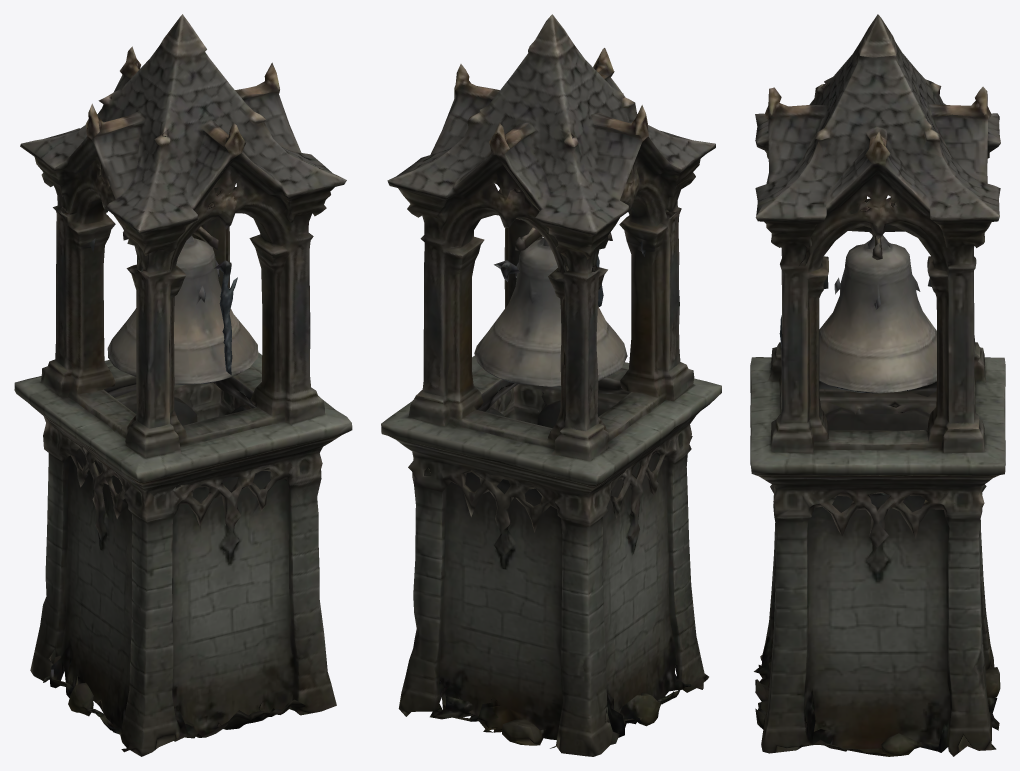
The model's file is bell_tower.glb.
The picture shows the model from 3 angles, left to right: view 1: azimuth 30°, elevation 25°; view 2: azimuth 150°, elevation 25°; view 3: azimuth 270°, elevation 25°; orthographic projection. The views are drawn at different scales.
Parts seen in each view (by area): view 1: geometry_0; view 2: geometry_0; view 3: geometry_0.
Boxes of the visible parts, x1=… form: geometry_0: x1=14, y1=14, x2=352, y2=756; geometry_0: x1=381, y1=14, x2=721, y2=756; geometry_0: x1=750, y1=14, x2=1005, y2=756.
Bounding box in the file's own units: 0.336 × 0.9979 × 0.3328.
Materials: 1 (1 with a texture image).
